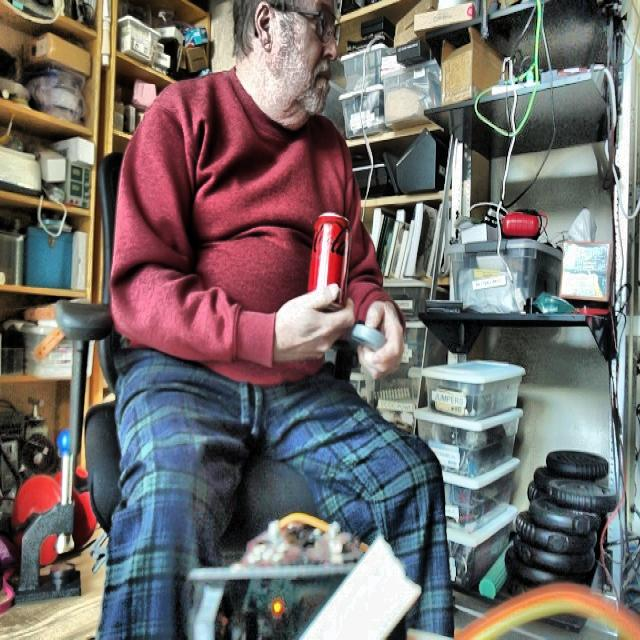Can: (308, 212, 350, 307)
